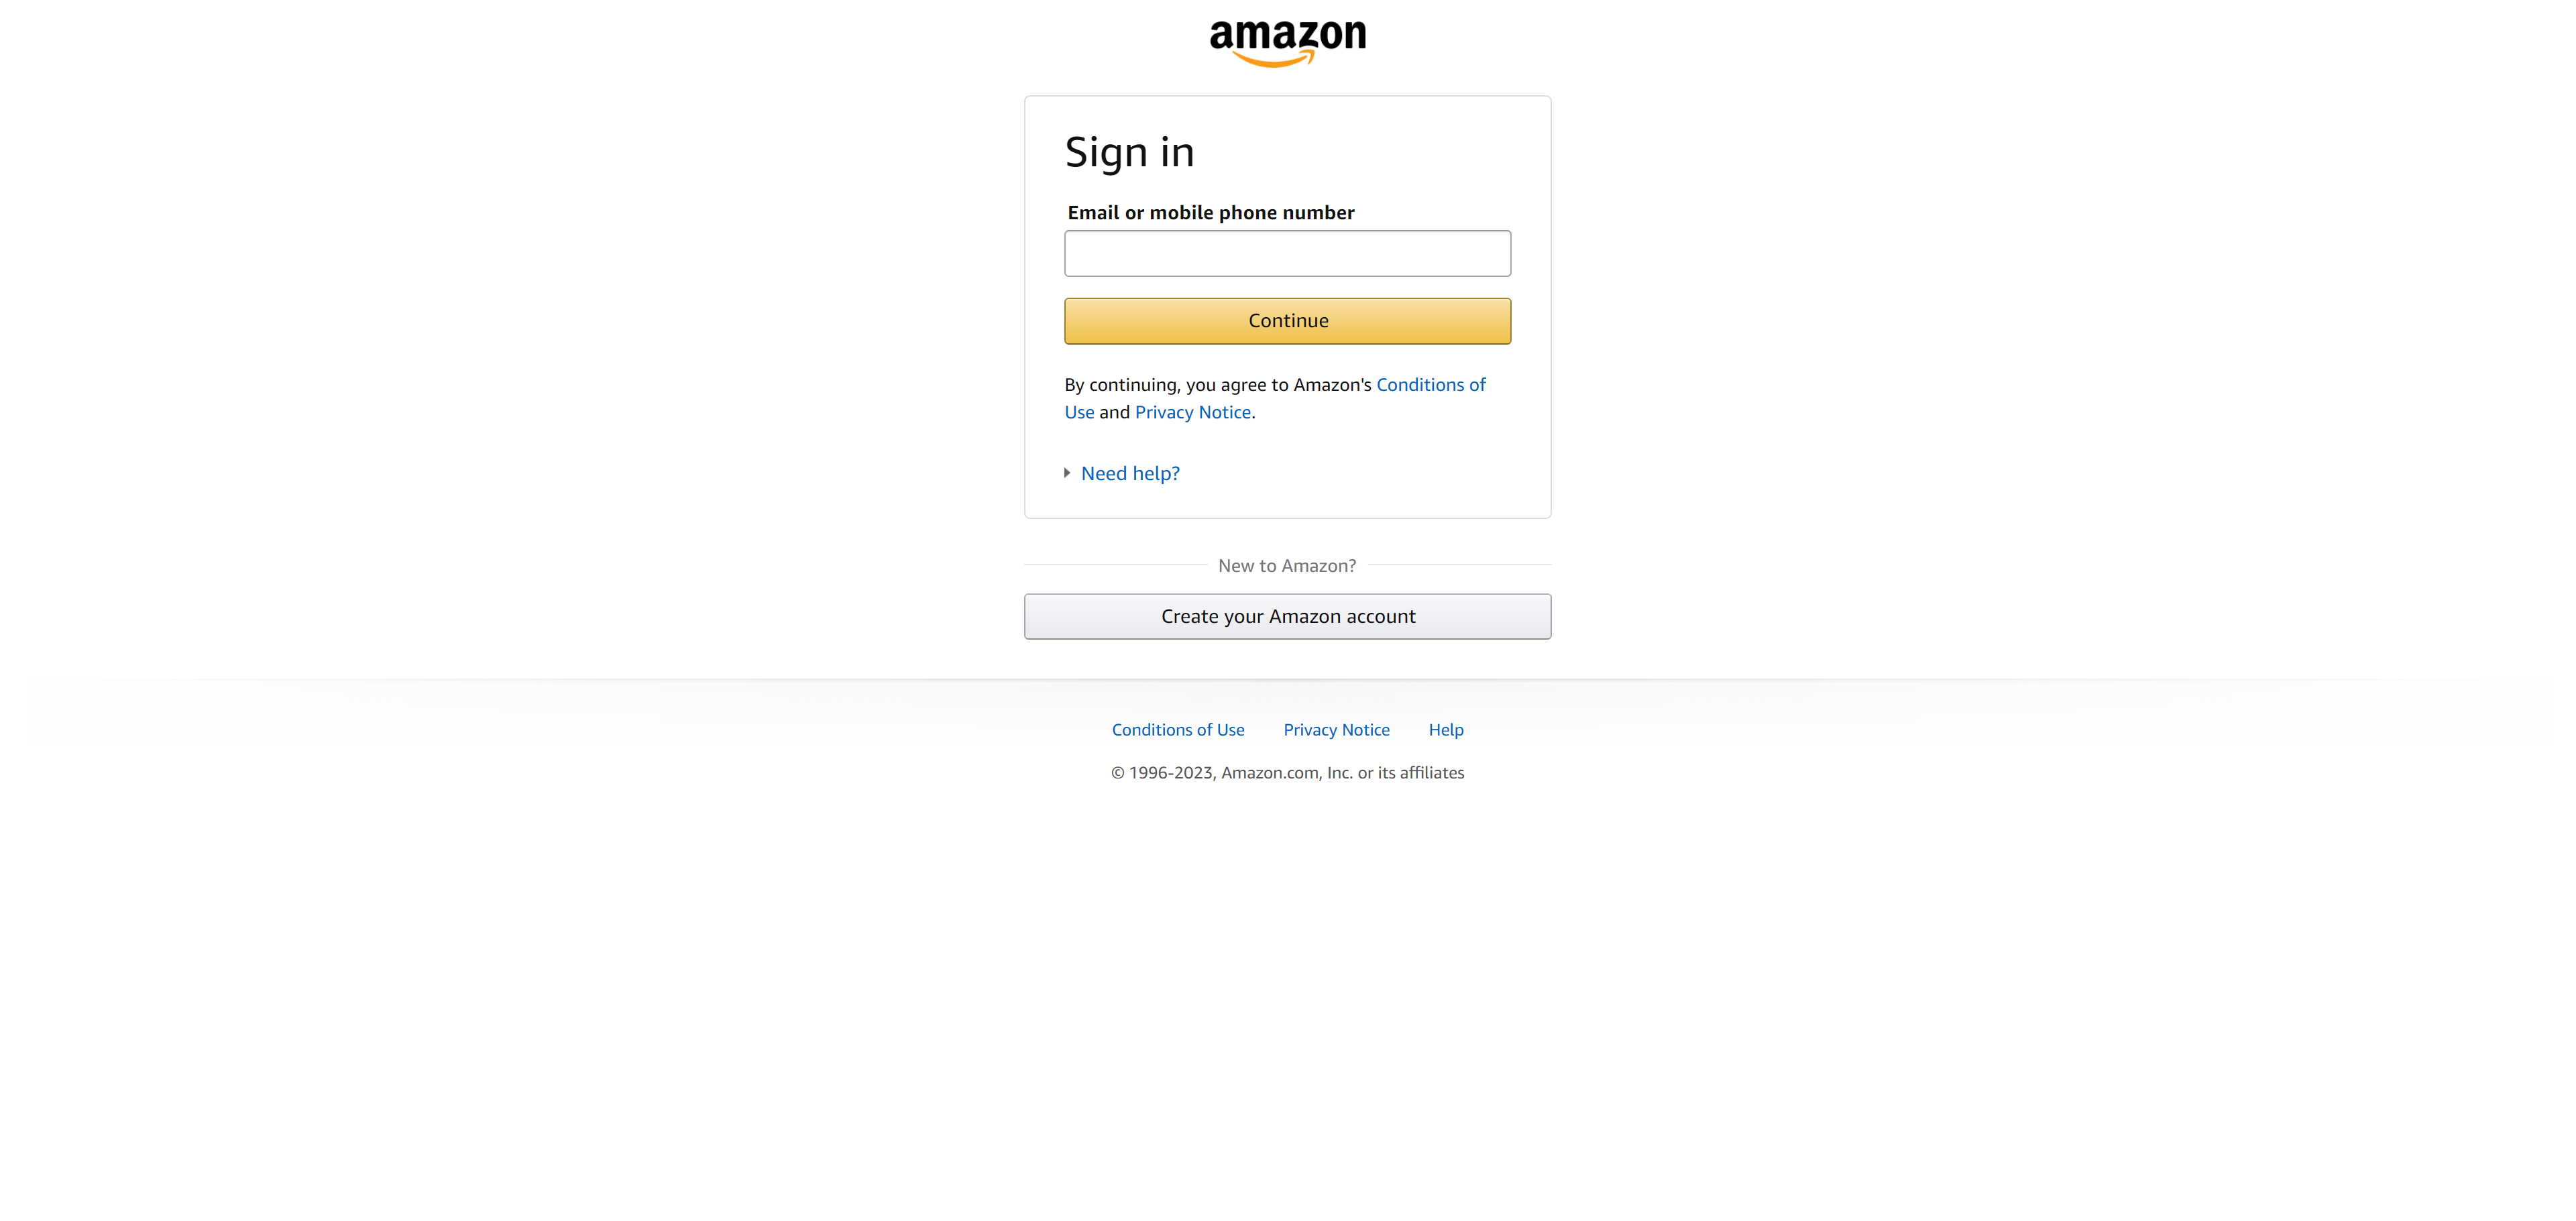login_button: (1065, 297, 1511, 345)
login_form: (1058, 197, 1518, 352)
